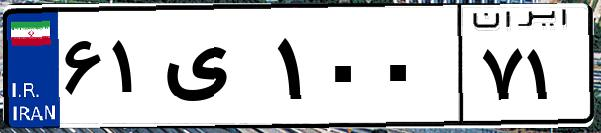0: (385, 28, 445, 110), (330, 28, 385, 110)
1: (270, 28, 330, 110), (525, 38, 570, 115), (110, 28, 158, 98)
6: (57, 26, 110, 100)
7: (475, 38, 525, 113)
ی: (158, 20, 270, 120)
